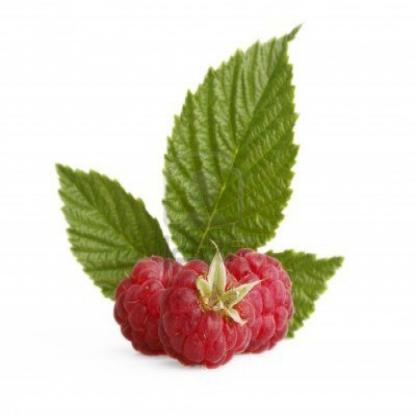raspberry leaf: (166, 17, 303, 271), (54, 159, 178, 300)
